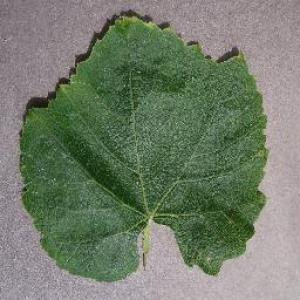Folha: (18, 10, 270, 282)
